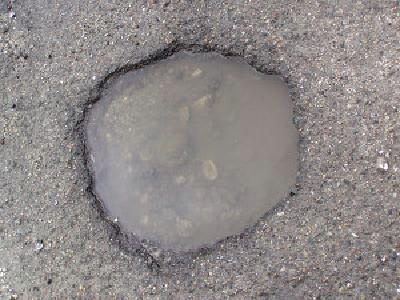pothole: (72, 38, 305, 270)
